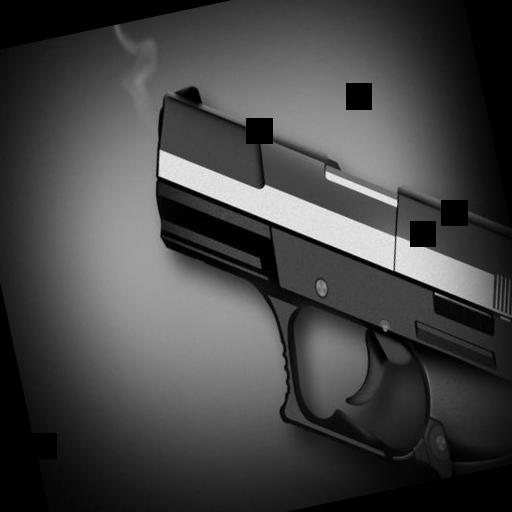Handgun: (133, 14, 512, 512)
